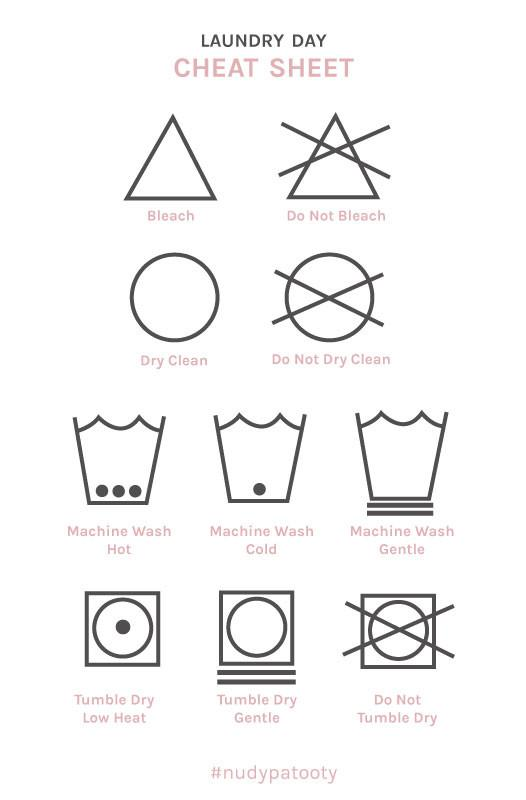do_not_bleach: (275, 106, 397, 203)
do_not_dry_clean: (262, 252, 397, 351)
